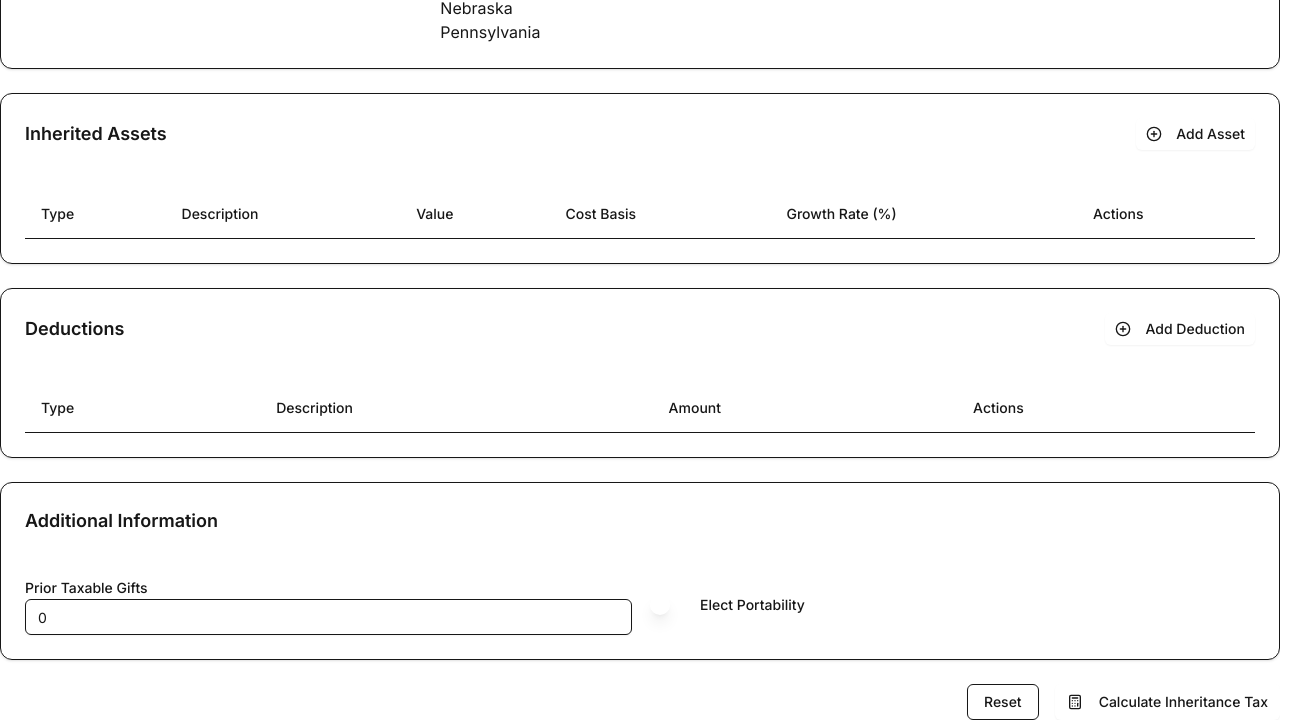
Scenario: InheritanceTaxCalculator › validates required fields before calculation
(page scrolled)
Try to calculate without any inputs
Click the button "Calculate Inheritance Tax": (1167, 702) top-left (1055, 684), bottom-right (1280, 719)
(page scrolled)
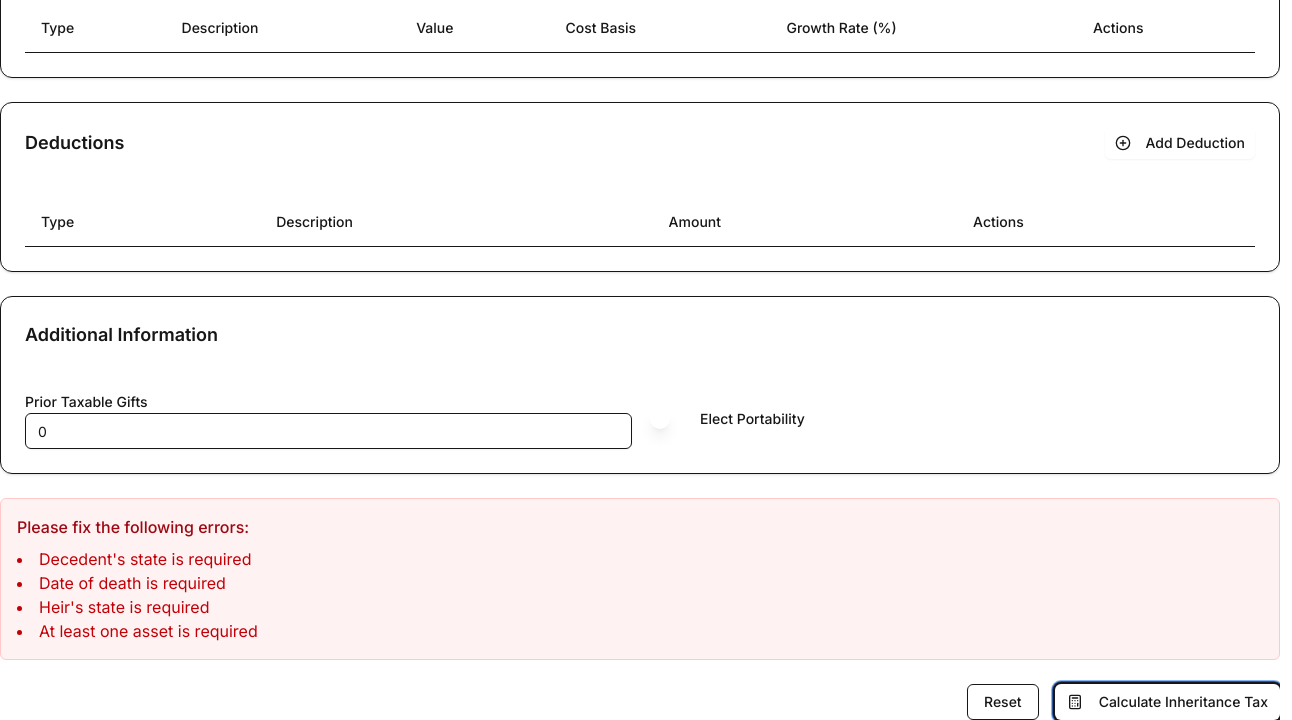
Now the list item "Decedent's state is required" is shown, box top-left (39, 549), bottom-right (252, 569)
Now the list item "Date of death is required" is shown, box top-left (39, 573), bottom-right (226, 593)
Now the list item "Heir's state is required" is shown, box top-left (39, 597), bottom-right (209, 617)
